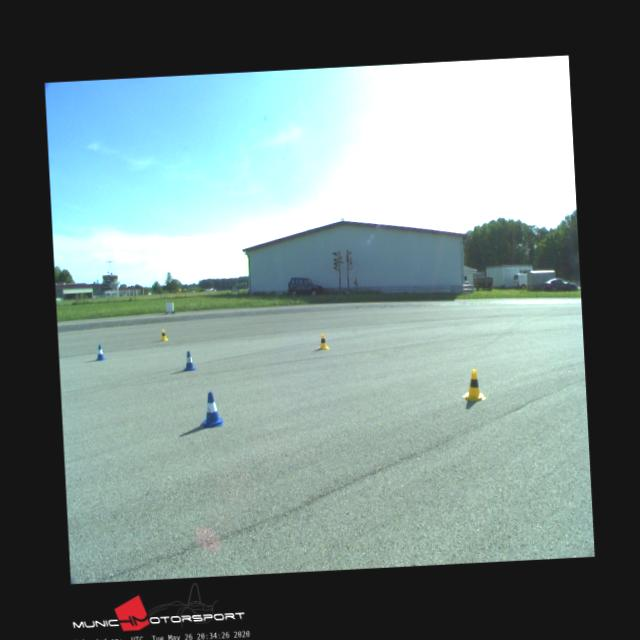blue_cone: (200, 392, 223, 428), (182, 352, 196, 372), (95, 345, 105, 360)
yellow_cone: (461, 370, 485, 400), (317, 334, 328, 350), (160, 328, 168, 341)
